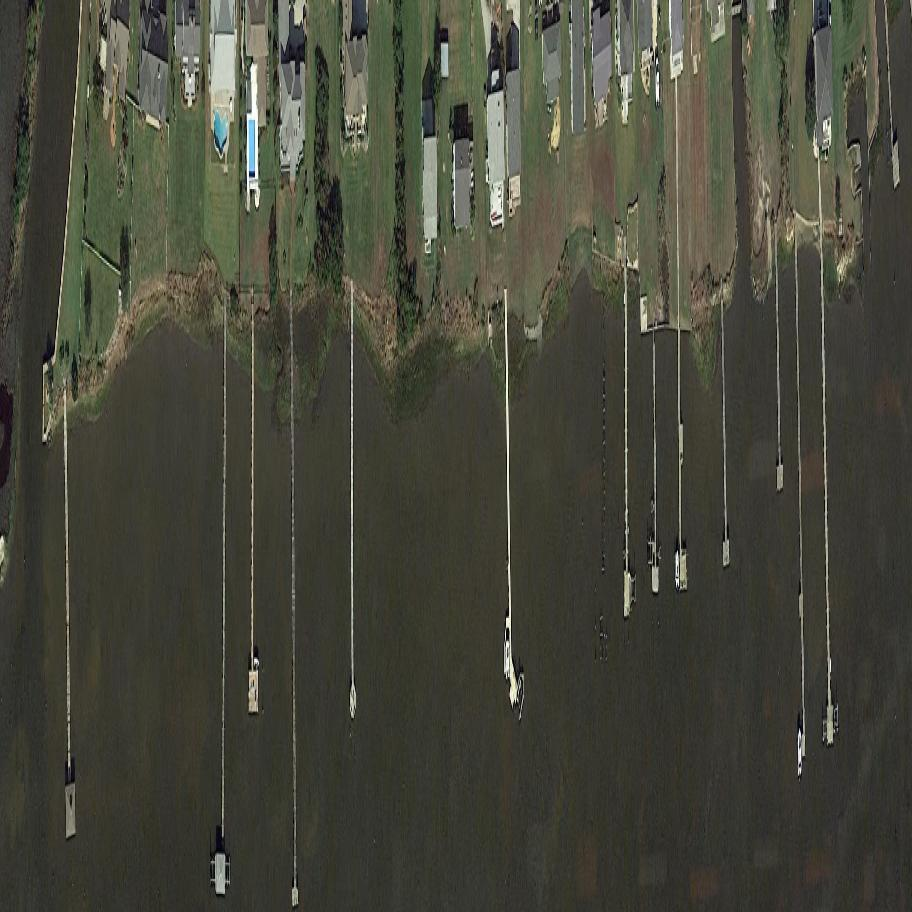ship: (797, 728, 802, 777), (655, 56, 659, 110), (675, 549, 679, 592), (505, 643, 509, 682)
